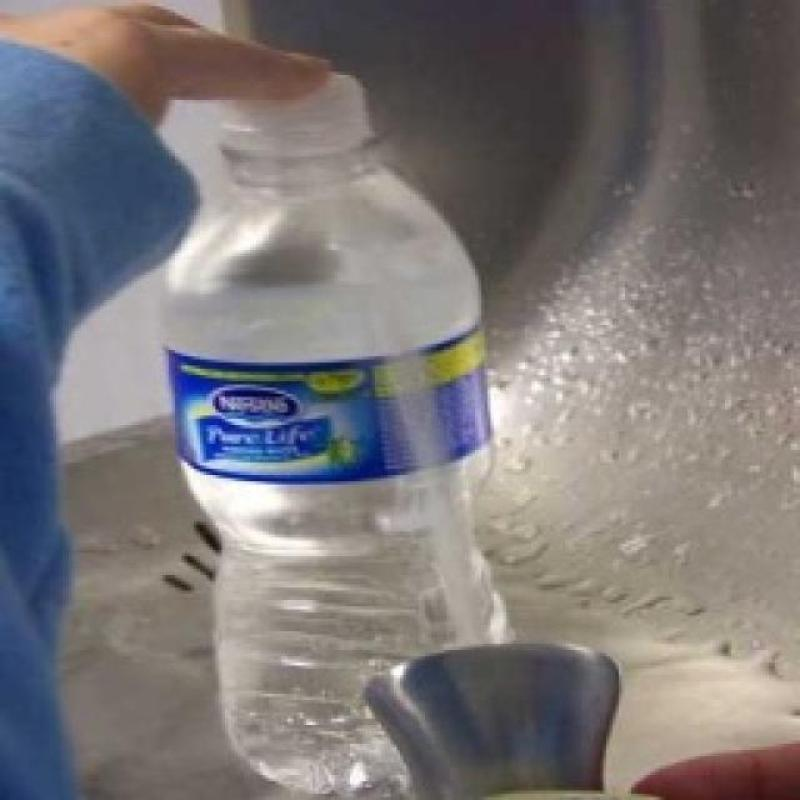botella: (161, 68, 511, 794)
